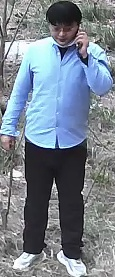phone: (56, 13, 113, 97)
